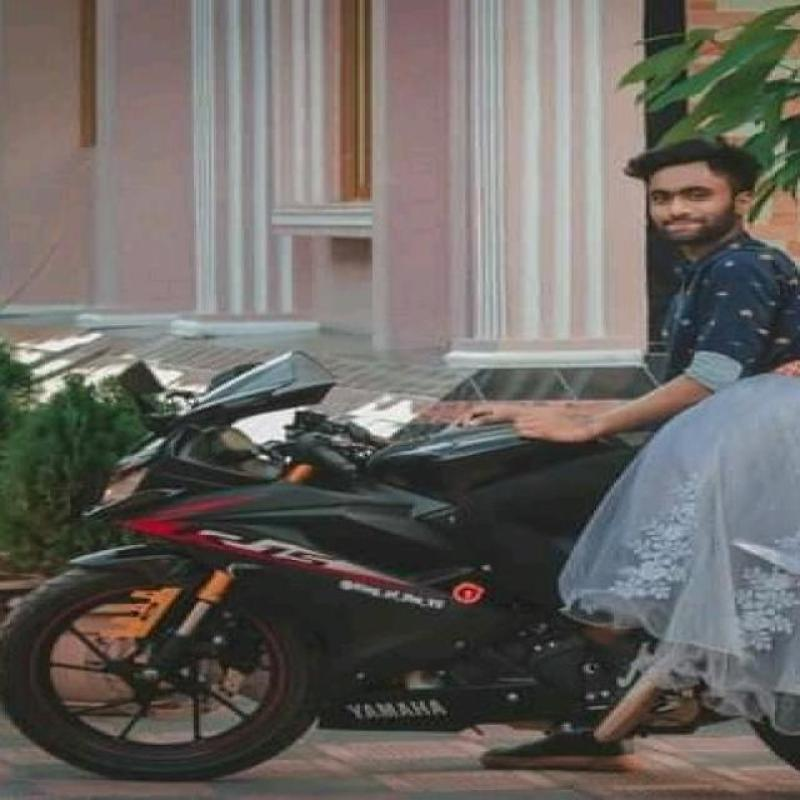nohelmet: (621, 142, 769, 244)
